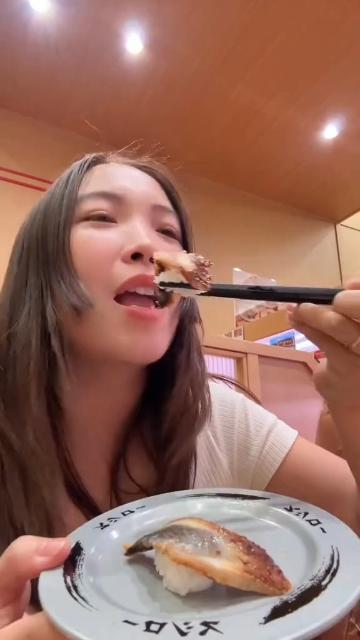janred: (53, 508, 360, 640)
